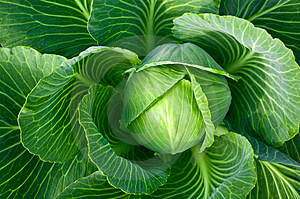cabbage: (0, 1, 299, 198)
